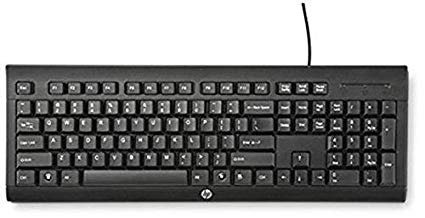keyboard: (9, 77, 406, 197)
